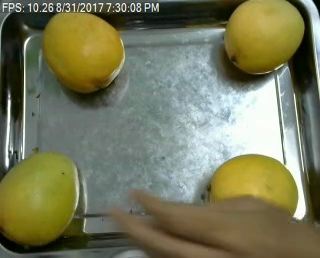Mango: (0, 153, 84, 247), (38, 8, 128, 93), (222, 0, 308, 77), (208, 153, 302, 216)
